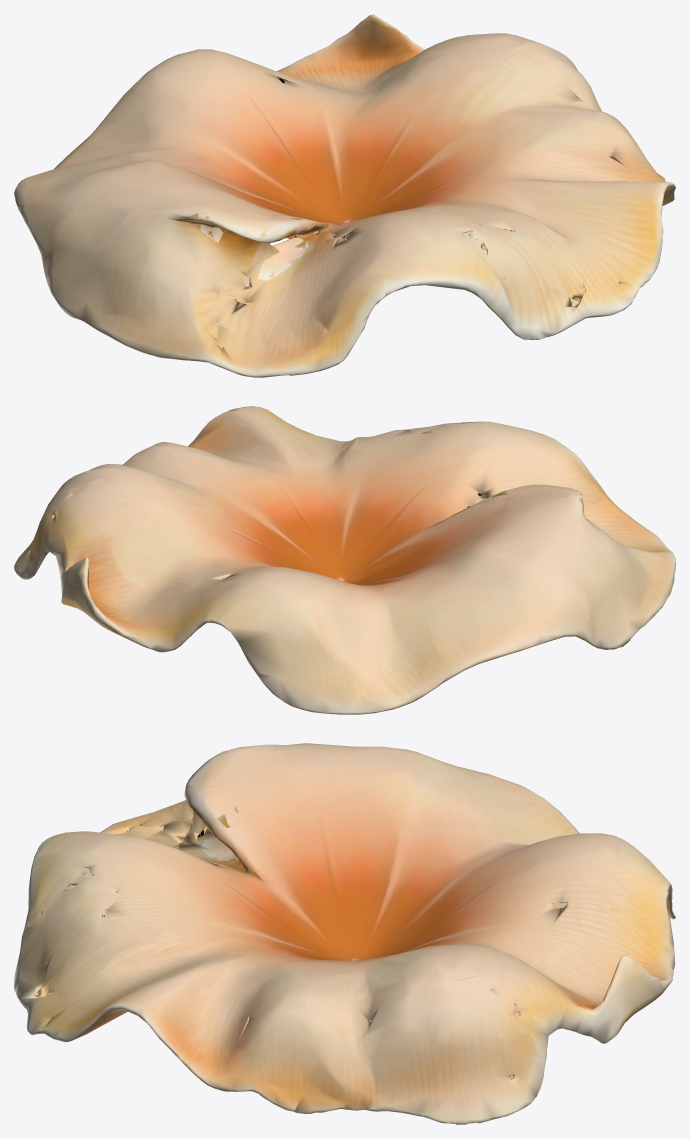
File: SoulOrb_Petal.glb
3 views of the same model, one above another, from view 1: azimuth 30°, elevation 25°; view 2: azimuth 150°, elevation 25°; view 3: azimuth 270°, elevation 25° (orthographic). The views are drawn at different scales.
Visible parts, largest first — view 1: Mesh1.0; view 2: Mesh1.0; view 3: Mesh1.0.
Part boxes in pixels (x1,y1,x2,y2): Mesh1.0: (14, 14, 675, 377); Mesh1.0: (14, 406, 675, 714); Mesh1.0: (14, 743, 675, 1124).
Bounding box in the file's own units: 2.01 × 0.3828 × 1.81.
1 material, 1 textured.
